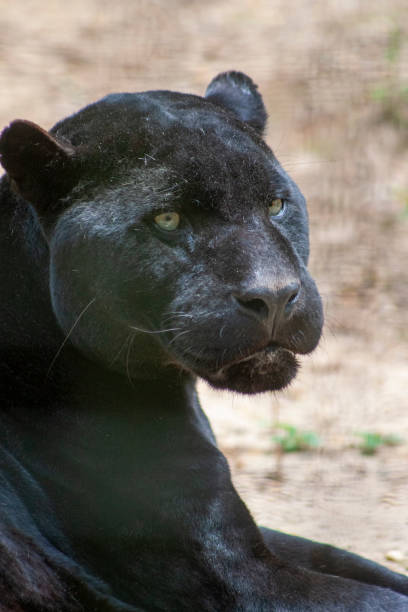panther: (1, 58, 374, 464)
